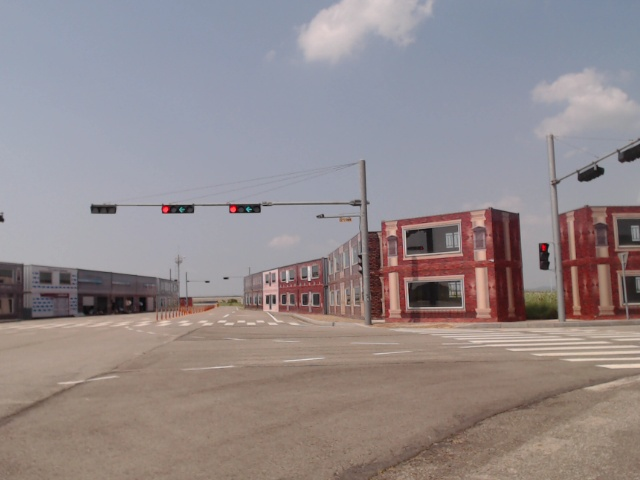left_green_4: (229, 205, 261, 213), (162, 206, 193, 213)
